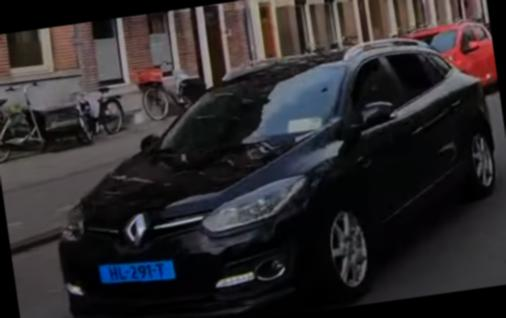license-plate: (98, 260, 178, 286)
